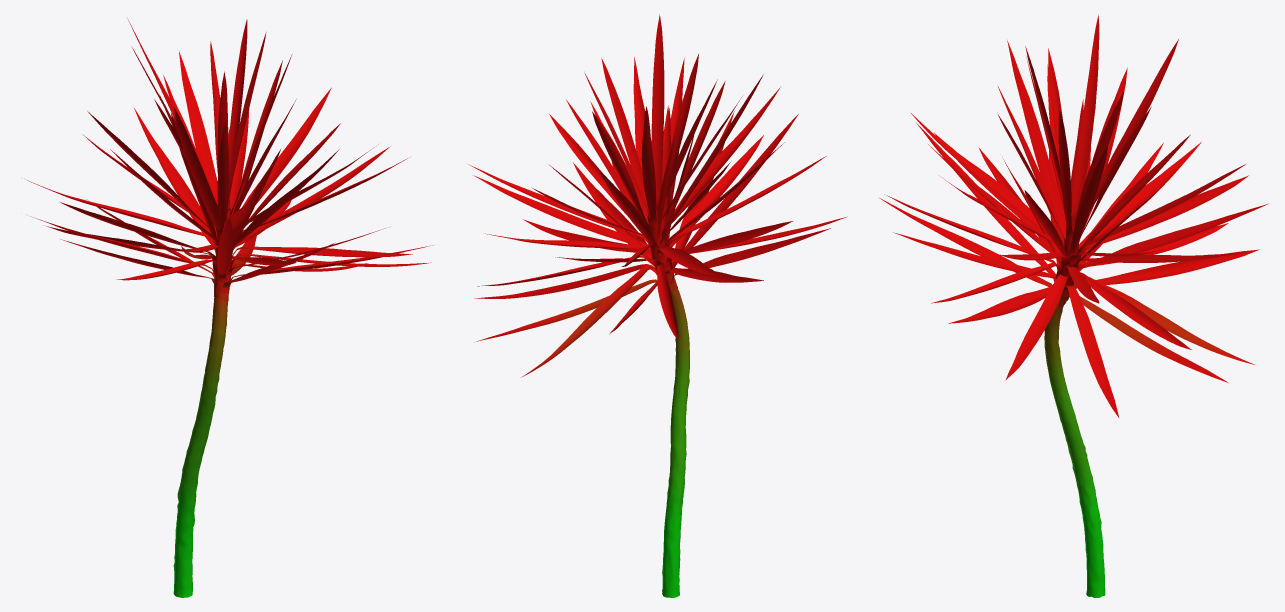
Rendered from Var12_LOD0.fbx.
3 views of the same model, side by side, from view 1: azimuth 30°, elevation 25°; view 2: azimuth 150°, elevation 25°; view 3: azimuth 270°, elevation 25° (orthographic). The views are drawn at different scales.
Visible parts, largest first — view 1: _aeoh_Var12_LOD0; view 2: _aeoh_Var12_LOD0; view 3: _aeoh_Var12_LOD0.
Part boxes in pixels (x1,y1,x2,y2): _aeoh_Var12_LOD0: (27, 19, 433, 597); _aeoh_Var12_LOD0: (468, 14, 847, 597); _aeoh_Var12_LOD0: (879, 14, 1268, 597).
Bounding box in the file's own units: 73.37 × 113 × 70.34.
